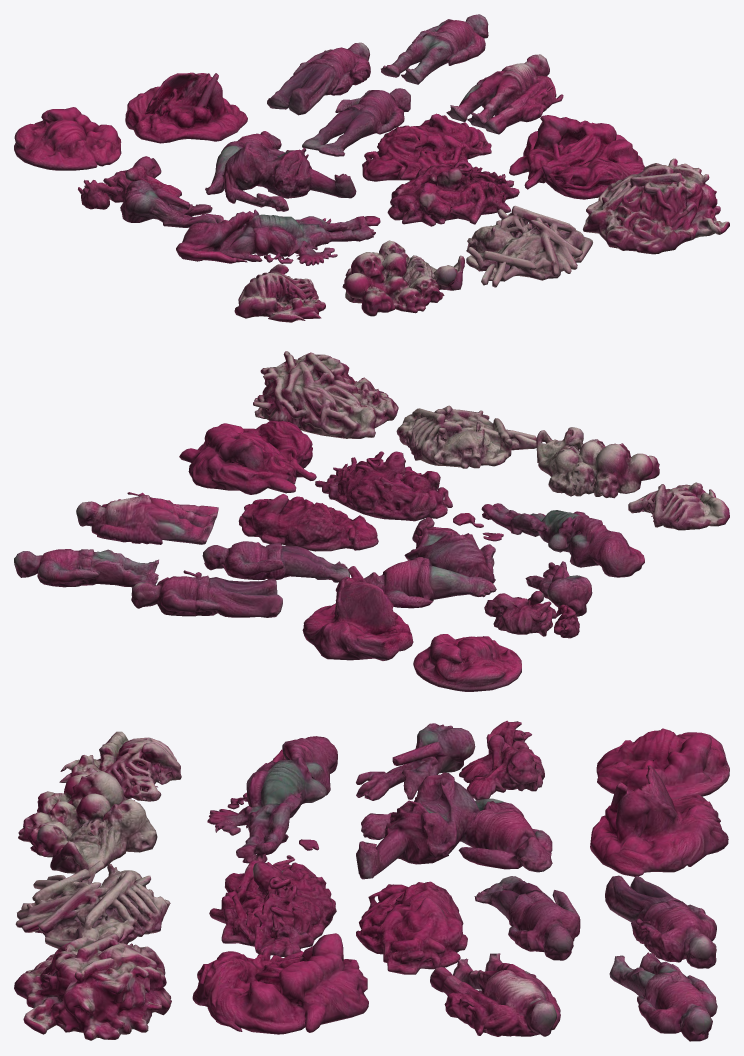
Rendered from corpse_remains_red.glb.
3 views of the same model, one above another, from view 1: azimuth 30°, elevation 25°; view 2: azimuth 150°, elevation 25°; view 3: azimuth 270°, elevation 25° (orthographic). The views are drawn at different scales.
Size of the model in its own units: 1.86 by 0.218 by 1.89.
1 material, 1 textured.
